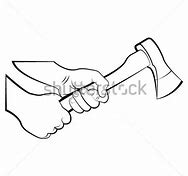axe: (22, 36, 184, 140)
